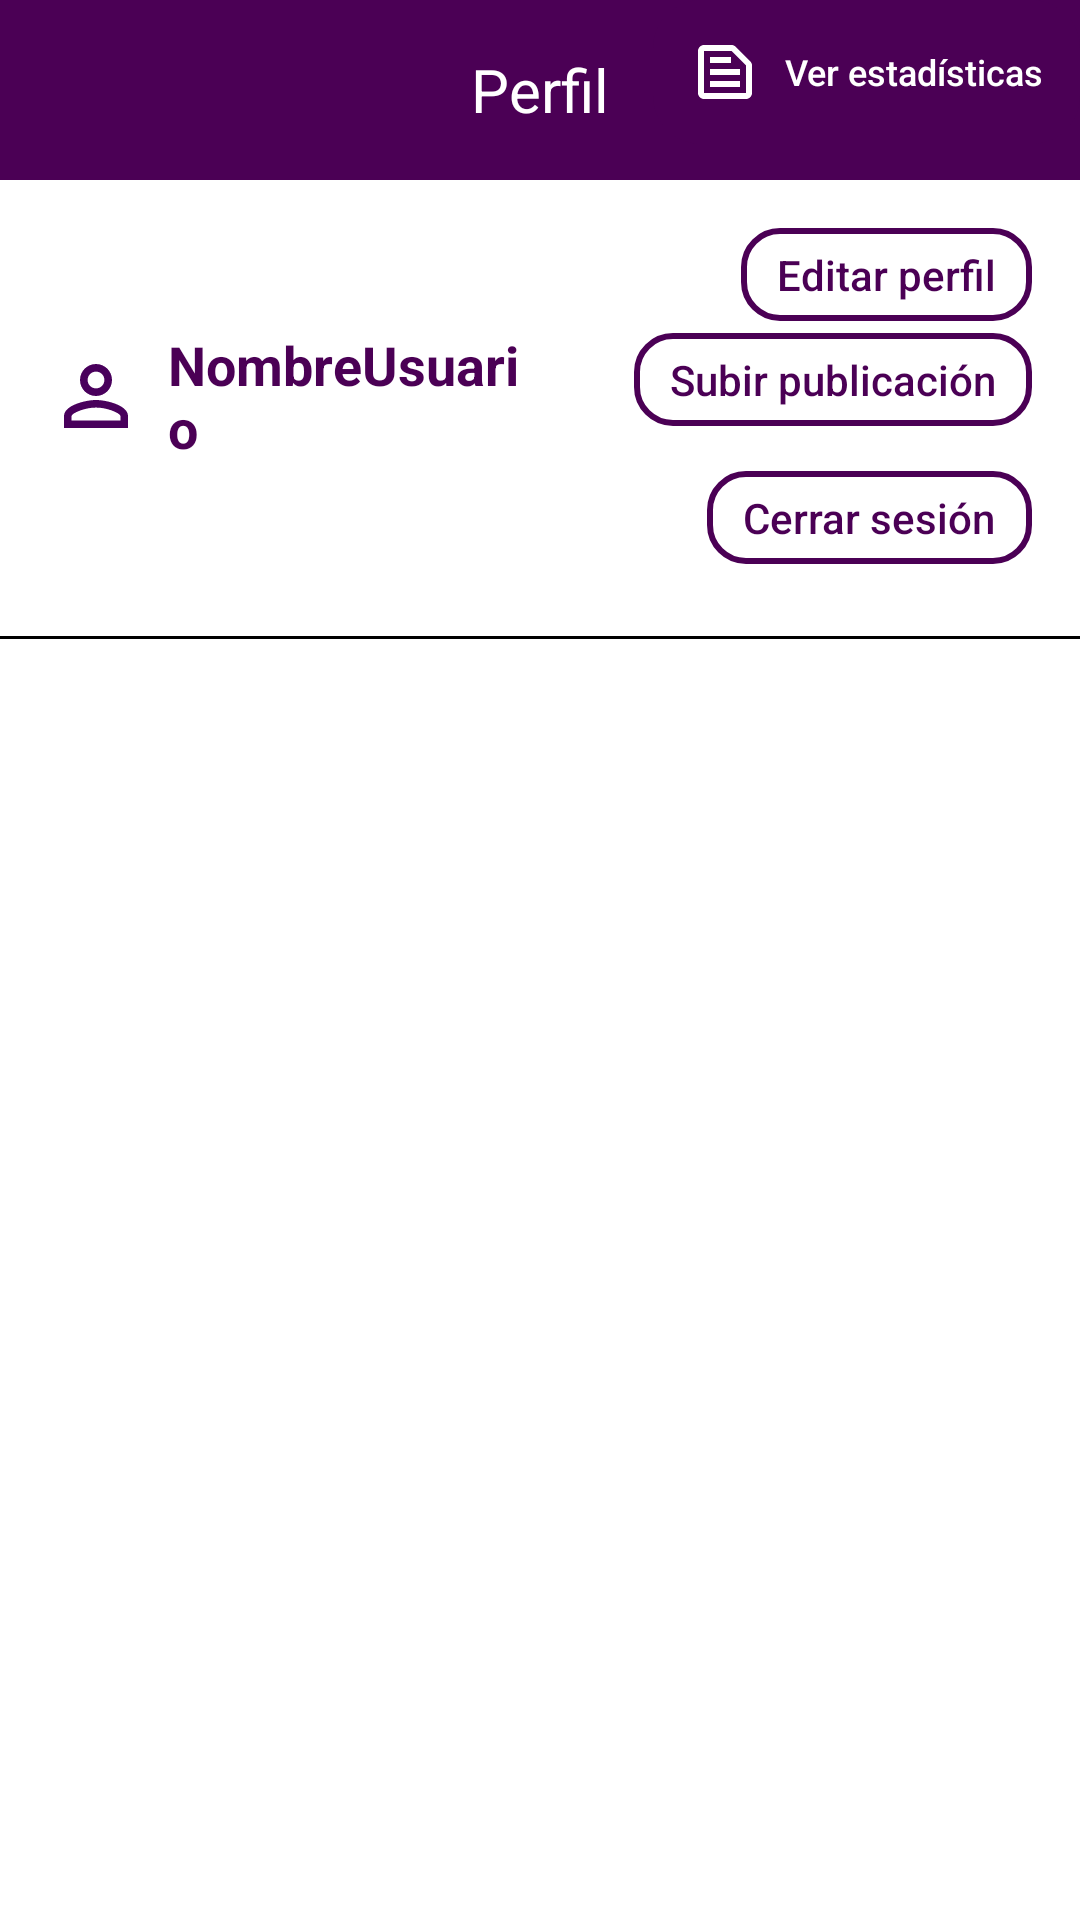

Screen size 1080 × 1920. Icon name, then its center in pixels as point (x, y):
Icono usuario: point (96, 396)
